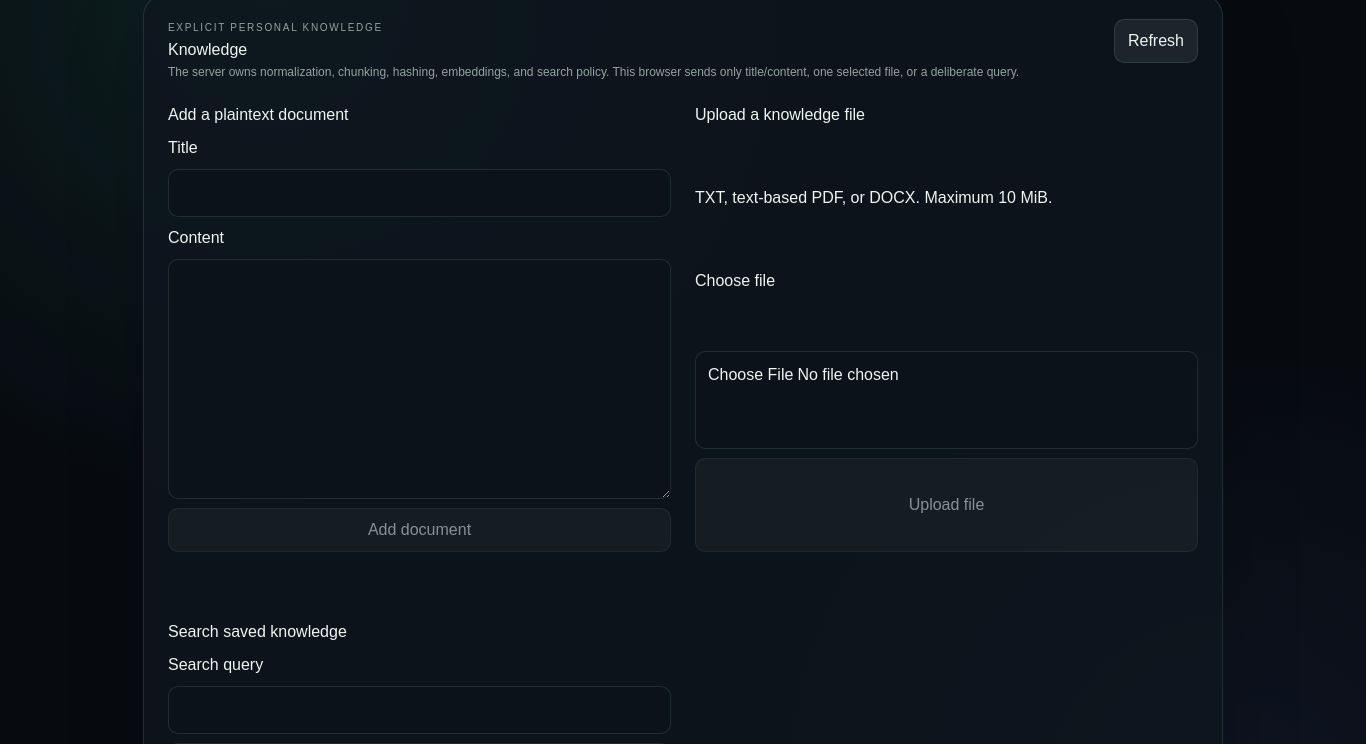
KnowledgePanel › searches with the query only and renders a truthful no-match
Type "deployment" into the field labelled "Search query" at (420, 710), box x1=168 y1=686 x2=671 y2=734
(page scrolled)
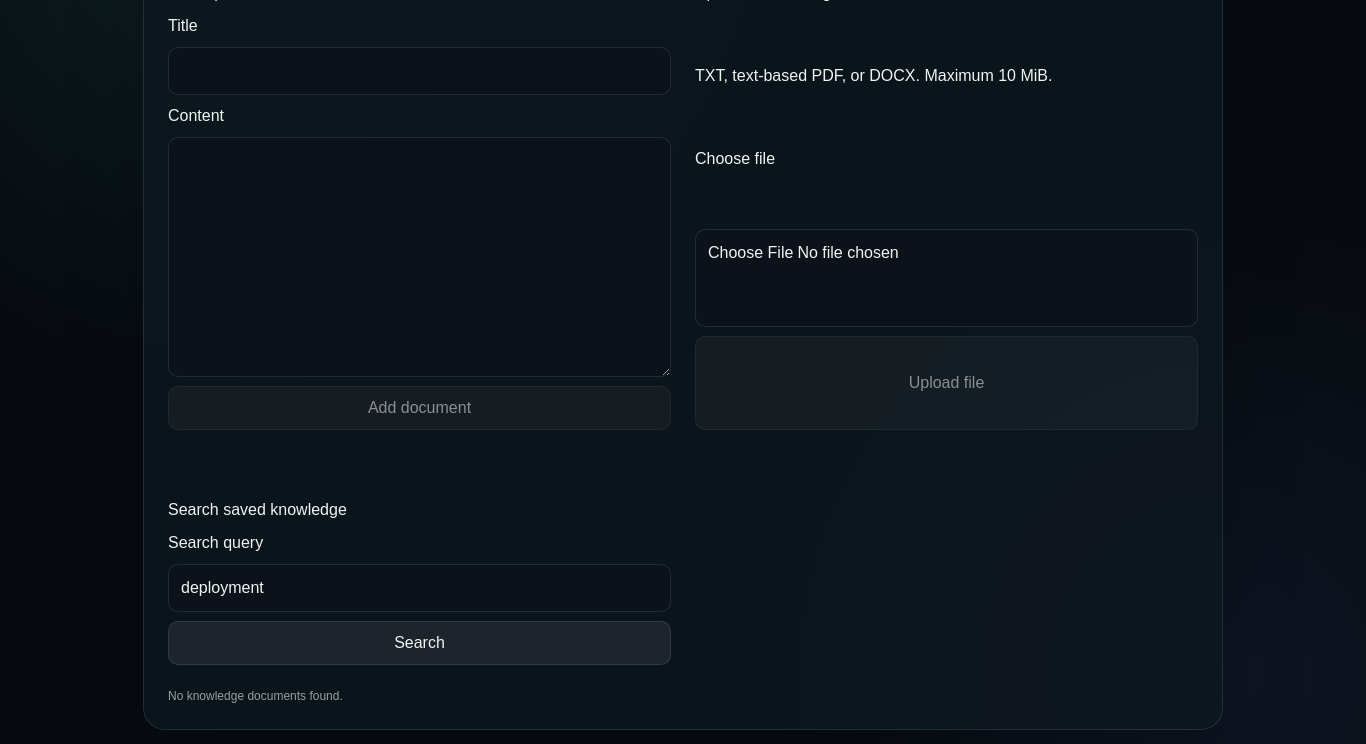
Click the button "Search" at (420, 643), box x1=168 y1=621 x2=671 y2=665
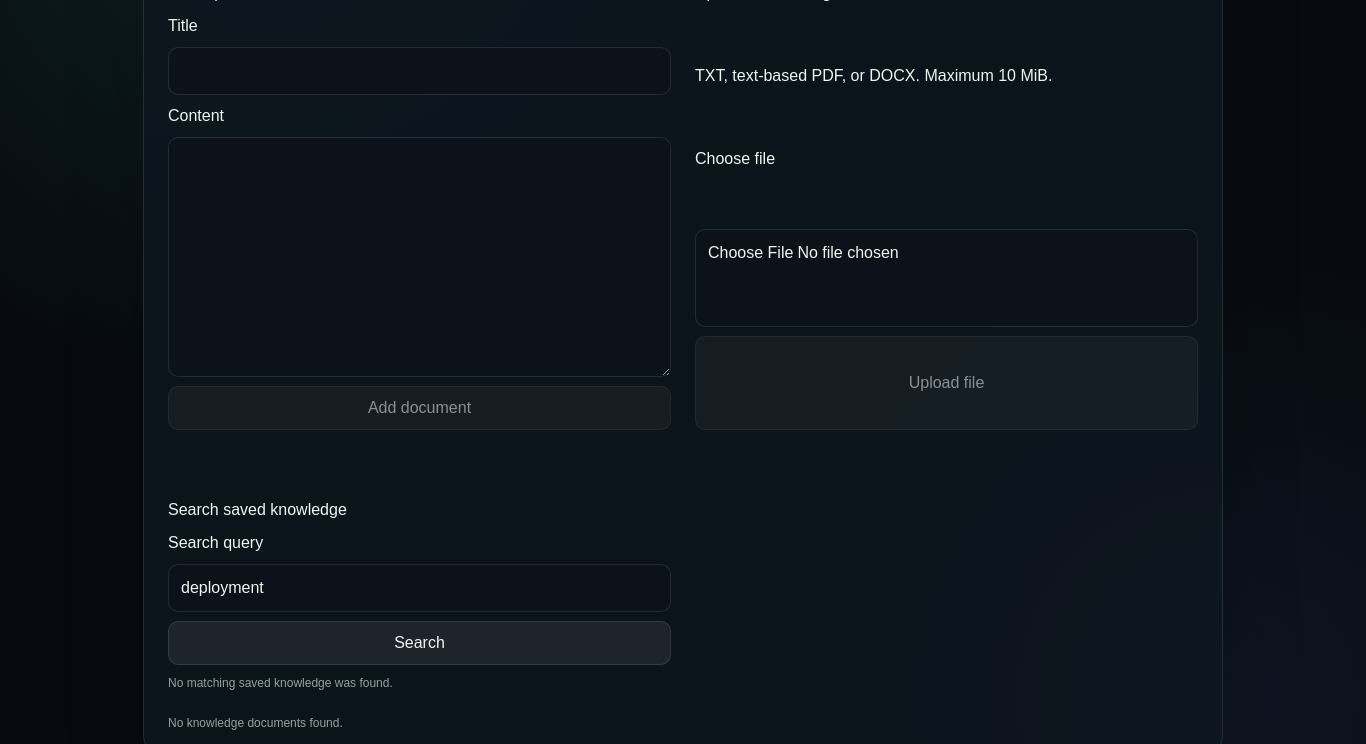
Expected: the text "No matching saved knowledge was found." is shown, x1=168 y1=676 x2=393 y2=690
